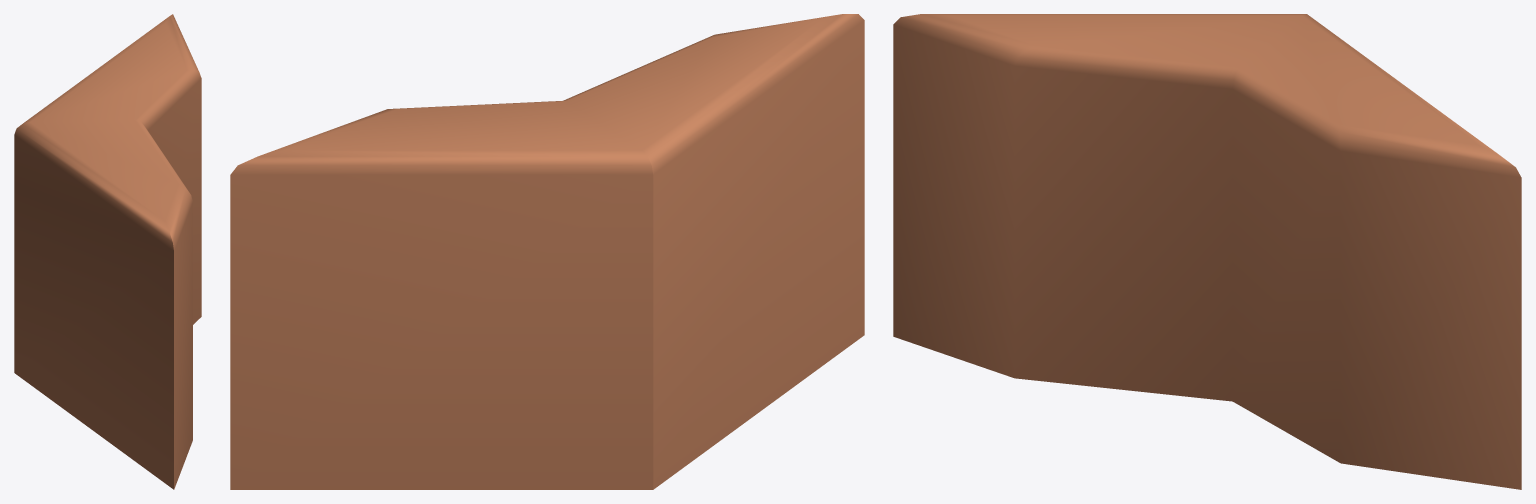
File: hex_rock_waterA_empty.glb
The picture shows the model from 3 angles, left to right: view 1: azimuth 30°, elevation 25°; view 2: azimuth 150°, elevation 25°; view 3: azimuth 270°, elevation 25°; orthographic projection. The views are drawn at different scales.
Parts seen in each view (by area): view 1: hex_rock_waterA_empty; view 2: hex_rock_waterA_empty; view 3: hex_rock_waterA_empty.
Boxes of the visible parts, x1=… form: hex_rock_waterA_empty: x1=14, y1=14, x2=201, y2=489; hex_rock_waterA_empty: x1=230, y1=14, x2=864, y2=489; hex_rock_waterA_empty: x1=893, y1=14, x2=1521, y2=489.
Bounding box in the file's own units: 1 × 1 × 1.73.
